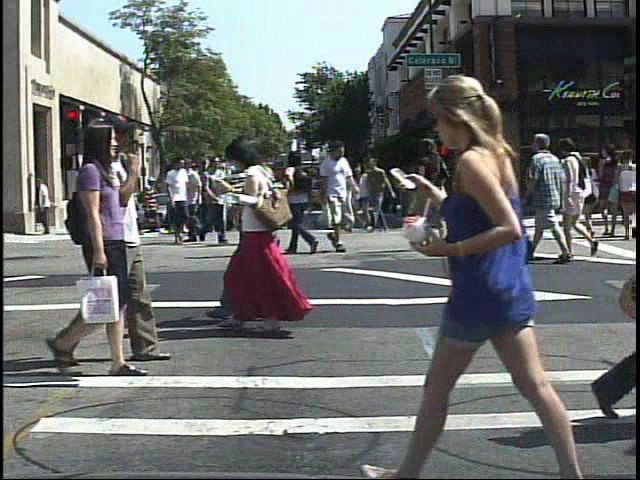person: (374, 63, 594, 480), (35, 112, 151, 383), (215, 134, 307, 334), (106, 108, 162, 372), (248, 131, 292, 333), (554, 132, 605, 263), (527, 121, 568, 268), (242, 137, 286, 262), (457, 143, 502, 256), (321, 141, 364, 253), (286, 150, 325, 258), (230, 150, 269, 247), (196, 153, 233, 249), (412, 134, 450, 218), (164, 157, 201, 243), (573, 147, 605, 243), (141, 173, 161, 242), (71, 182, 91, 232)
